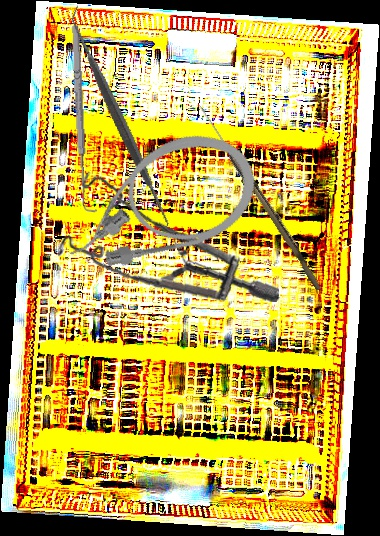Cannula: (45, 116, 271, 290)
Hook Surgical: (69, 23, 97, 215)
Spatula Surgical: (3, 3, 237, 237)
Speculum: (51, 156, 280, 321)
Surgical Spoon: (193, 102, 327, 291)
